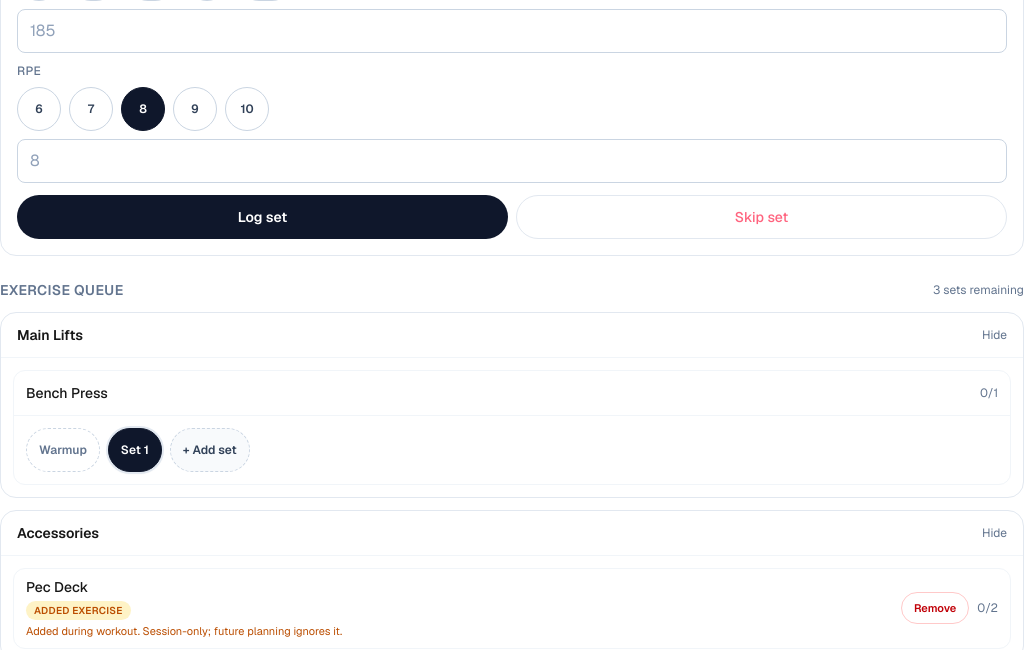
Scenario: LogWorkoutClient UX behavior › removes an unlogged runtime-added exercise from the queue
(page scrolled)
Check: the text "3 sets remaining" is shown, box [933,282,1023,298]
Click the button "Remove" at [935, 608], box [901,592,969,624]
(page scrolled)
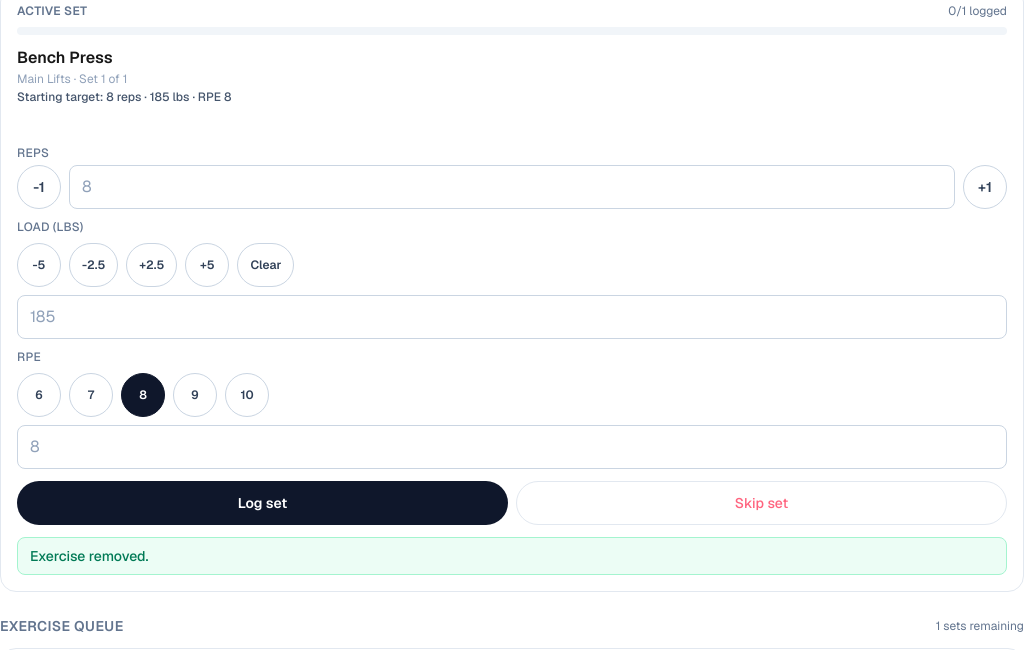
Check: the element with test id "queue-row-ex-added" is gone
Check: the button "Pec Deck" is gone
Check: the text "1 sets remaining" is shown, box [936,618,1023,634]
